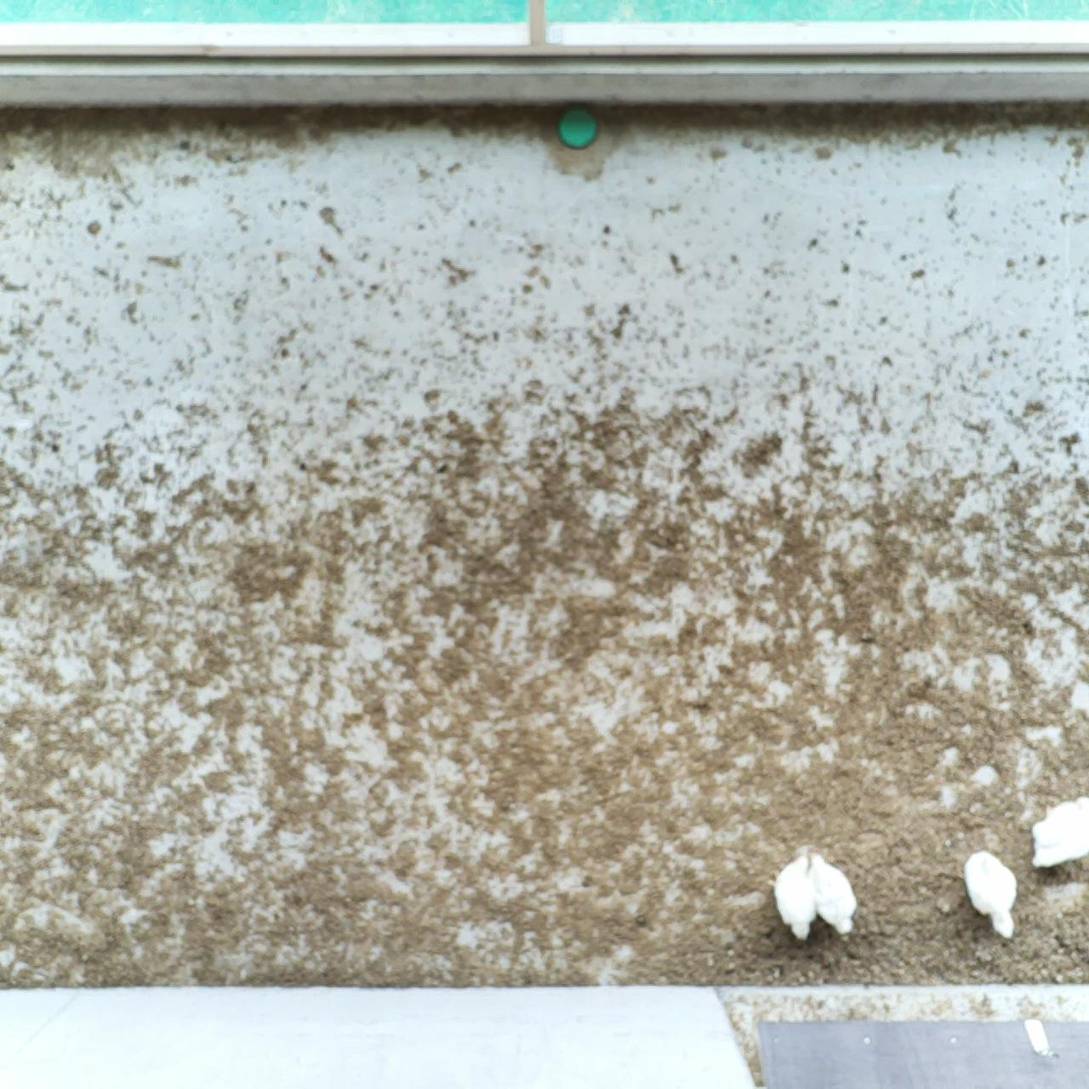chicken: (962, 848, 1024, 942), (805, 850, 863, 945), (764, 851, 815, 945), (1029, 794, 1089, 869)
